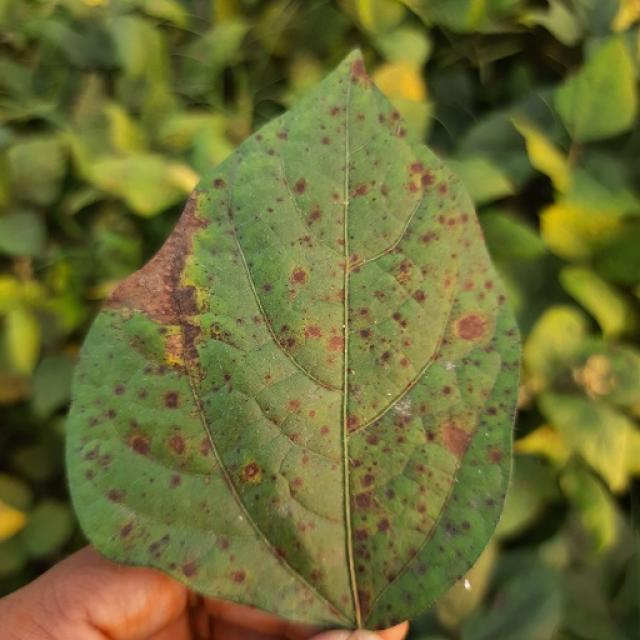Anthracnose: (177, 303, 207, 370), (574, 352, 618, 396), (448, 309, 488, 353), (170, 278, 201, 321), (440, 419, 473, 459), (161, 328, 188, 367), (239, 461, 262, 484), (349, 57, 370, 82), (392, 398, 413, 421), (130, 435, 151, 456), (181, 559, 200, 577), (346, 253, 364, 272), (354, 492, 372, 510), (169, 435, 185, 455), (163, 390, 180, 408), (304, 324, 323, 340), (351, 182, 369, 198), (357, 589, 371, 609), (327, 335, 343, 352), (420, 170, 436, 187), (106, 488, 124, 503), (291, 268, 307, 284), (306, 208, 321, 225), (119, 521, 134, 537), (293, 178, 307, 195), (420, 231, 437, 245), (209, 324, 223, 340), (411, 289, 426, 303), (409, 162, 424, 176), (230, 570, 246, 583), (212, 177, 226, 190), (169, 474, 182, 488), (366, 433, 379, 446), (358, 328, 372, 340), (113, 384, 126, 396), (219, 537, 230, 550), (284, 337, 296, 348), (261, 282, 273, 293), (319, 425, 330, 436), (321, 136, 331, 146)
Blackgram: (62, 49, 524, 634)
